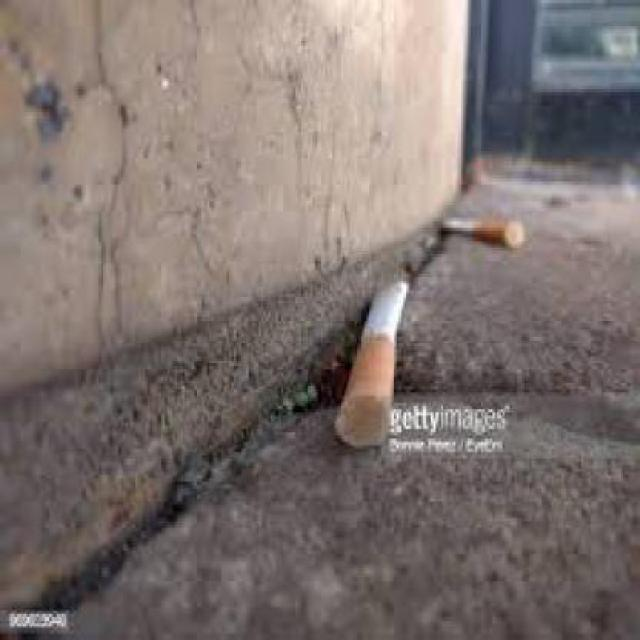cigarette: (344, 248, 414, 452), (438, 200, 550, 254)
